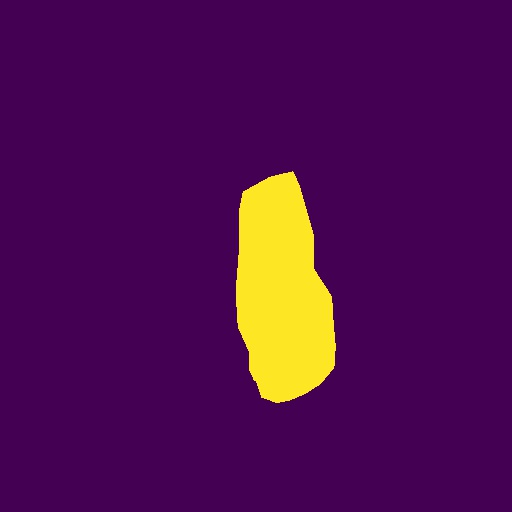Gliomia_tumour: (236, 171, 336, 403)
